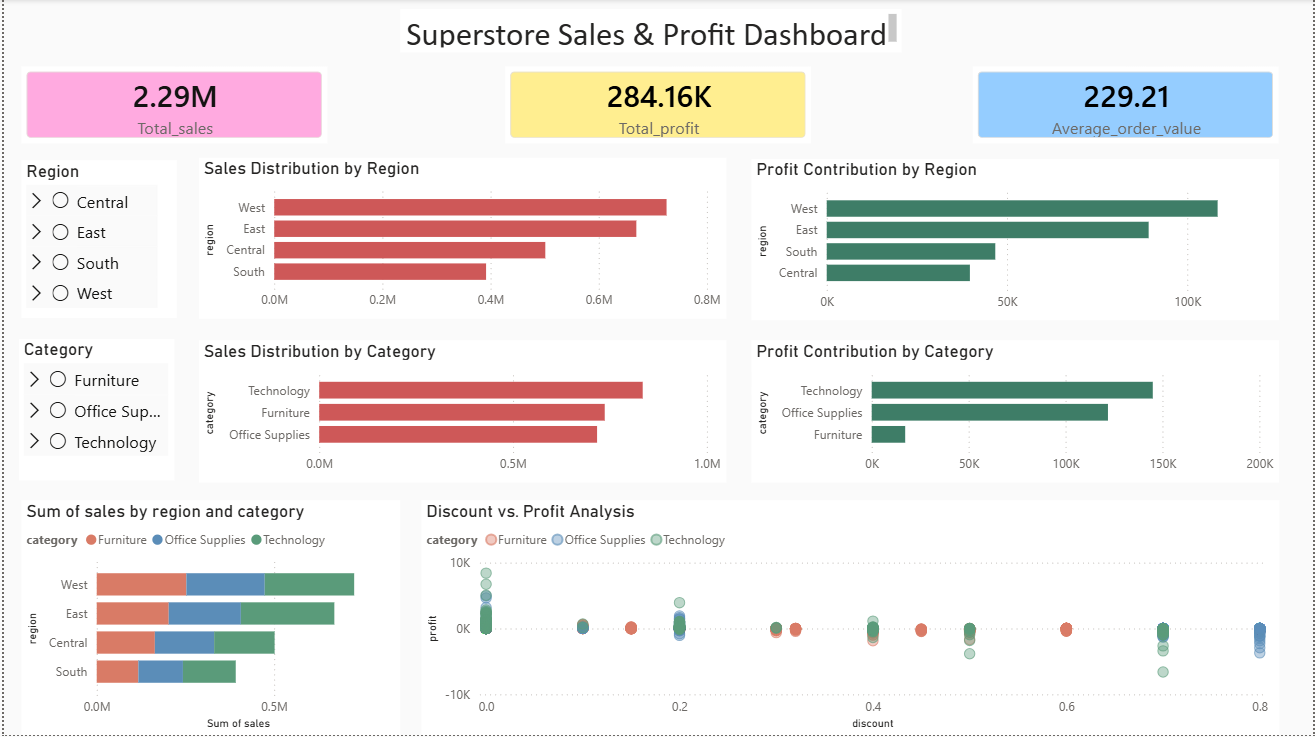

The page's visual inventory and layout, read from the dashboard file:
{"tool":"powerbi","page":{"name":"Page 1","canvas":[1280,720],"ordinal":0},"visuals":[{"type":"cardVisual","fields":{"Data":["cleaned_superstore.Total_sales"]},"box":[17.1,66.3,299.6,75],"z":0},{"type":"cardVisual","fields":{"Data":["cleaned_superstore.Total_profit"]},"box":[490.4,66.3,299.6,75],"z":1000},{"type":"cardVisual","fields":{"Data":["cleaned_superstore.Average_order_value"]},"box":[947.7,66.3,299.6,75],"z":2000},{"type":"clusteredBarChart","title":"Sales Distribution by Region","fields":{"Category":["cleaned_superstore.region"],"Y":["Sum(cleaned_superstore.sales)"]},"box":[190.8,155,516,157.7],"z":3000},{"type":"clusteredBarChart","title":"Sales Distribution by Category","fields":{"Y":["Sum(cleaned_superstore.sales)"],"Category":["cleaned_superstore.category"]},"box":[190.8,333.6,516,139],"z":4000},{"type":"clusteredBarChart","title":"Profit Contribution by Category","fields":{"Category":["cleaned_superstore.category"],"Y":["Sum(cleaned_superstore.profit)"]},"box":[731.3,333.6,516,139],"z":5000},{"type":"clusteredBarChart","title":"Profit Contribution by Region","fields":{"Category":["cleaned_superstore.region"],"Y":["Sum(cleaned_superstore.profit)"]},"box":[731.3,156.2,516,157.7],"z":6000},{"type":"scatterChart","title":"Discount vs. Profit Analysis","fields":{"X":["cleaned_superstore.discount"],"Y":["cleaned_superstore.profit"],"Series":["cleaned_superstore.category"]},"box":[408.4,490.4,838.9,229.9],"z":7000},{"type":"barChart","fields":{"Category":["cleaned_superstore.region"],"Y":["Sum(cleaned_superstore.sales)"],"Series":["cleaned_superstore.category"]},"box":[17.1,490.4,370.5,229.9],"z":8000},{"type":"textbox","box":[387.6,9.8,490.4,42.8],"z":9000},{"type":"listSlicer","title":"Category","fields":{"Values":["cleaned_superstore.category","cleaned_superstore.region","cleaned_superstore.segment"]},"box":[14.8,333.2,151.8,138.4],"z":10000},{"type":"listSlicer","title":"Region","fields":{"Values":["cleaned_superstore.region","cleaned_superstore.category","cleaned_superstore.segment"]},"box":[17.5,157.2,151.8,154.5],"z":11000}]}

Visuals, with their boxes in screenshot pixels (x1, y1, x2, y2), scaled from the page's 1280x720 canvas onto the 1315x737 screenshot:
cardVisual - cleaned_superstore.Total_sales: bbox(18, 68, 325, 145)
cardVisual - cleaned_superstore.Total_profit: bbox(504, 68, 812, 145)
cardVisual - cleaned_superstore.Average_order_value: bbox(974, 68, 1281, 145)
"Sales Distribution by Region" clusteredBarChart: bbox(196, 159, 726, 320)
"Sales Distribution by Category" clusteredBarChart: bbox(196, 341, 726, 484)
"Profit Contribution by Category" clusteredBarChart: bbox(751, 341, 1281, 484)
"Profit Contribution by Region" clusteredBarChart: bbox(751, 160, 1281, 321)
"Discount vs. Profit Analysis" scatterChart: bbox(420, 502, 1281, 736)
barChart - cleaned_superstore.region x Sum(cleaned_superstore.sales): bbox(18, 502, 398, 736)
textbox: bbox(398, 10, 902, 54)
"Category" listSlicer: bbox(15, 341, 171, 483)
"Region" listSlicer: bbox(18, 161, 174, 319)
